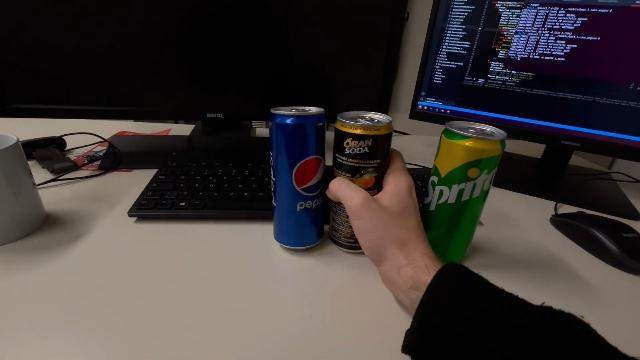OranSoda: (330, 109, 394, 256)
Pepsi: (267, 103, 329, 253)
Sprite: (418, 119, 507, 270)
